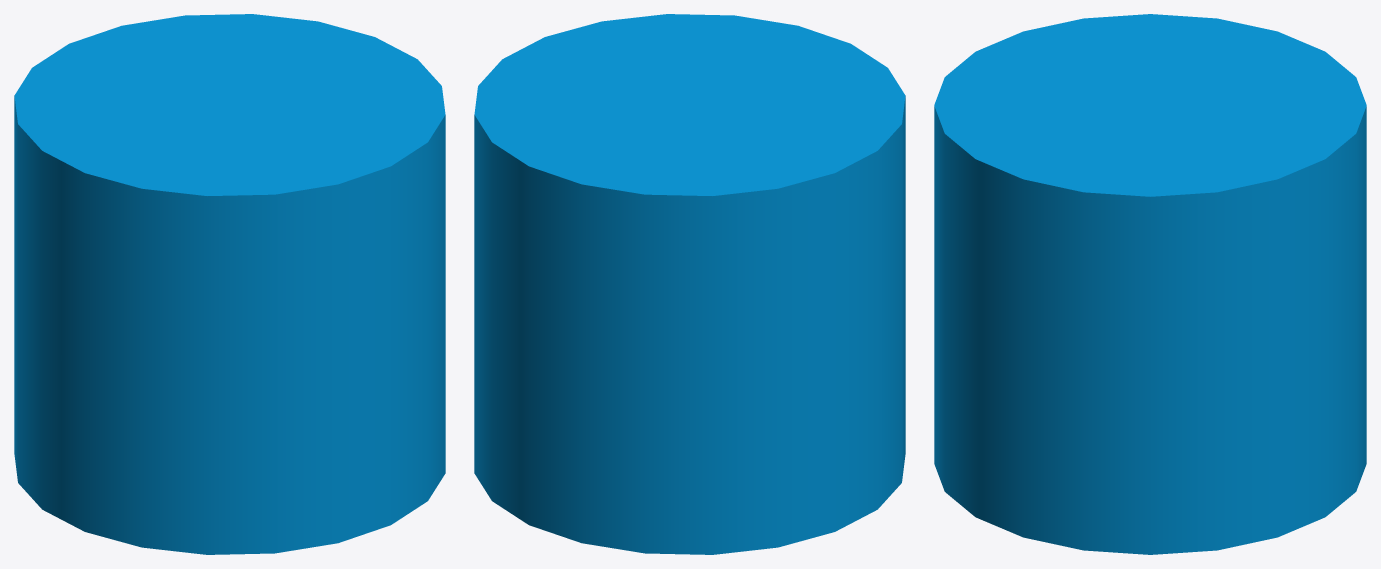
Rendered from Bridge_Pillar_02.fbx.
3 views of the same model, side by side, from view 1: azimuth 30°, elevation 25°; view 2: azimuth 150°, elevation 25°; view 3: azimuth 270°, elevation 25° (orthographic).
Visible parts, largest first — view 1: Bridge_Pillar_02; view 2: Bridge_Pillar_02; view 3: Bridge_Pillar_02.
Part boxes in pixels (x1,y1,x2,y2): Bridge_Pillar_02: (14,14,445,554); Bridge_Pillar_02: (474,14,905,554); Bridge_Pillar_02: (934,14,1366,554).
Bounding box in the file's own units: 8.98 × 8.2 × 8.98.
